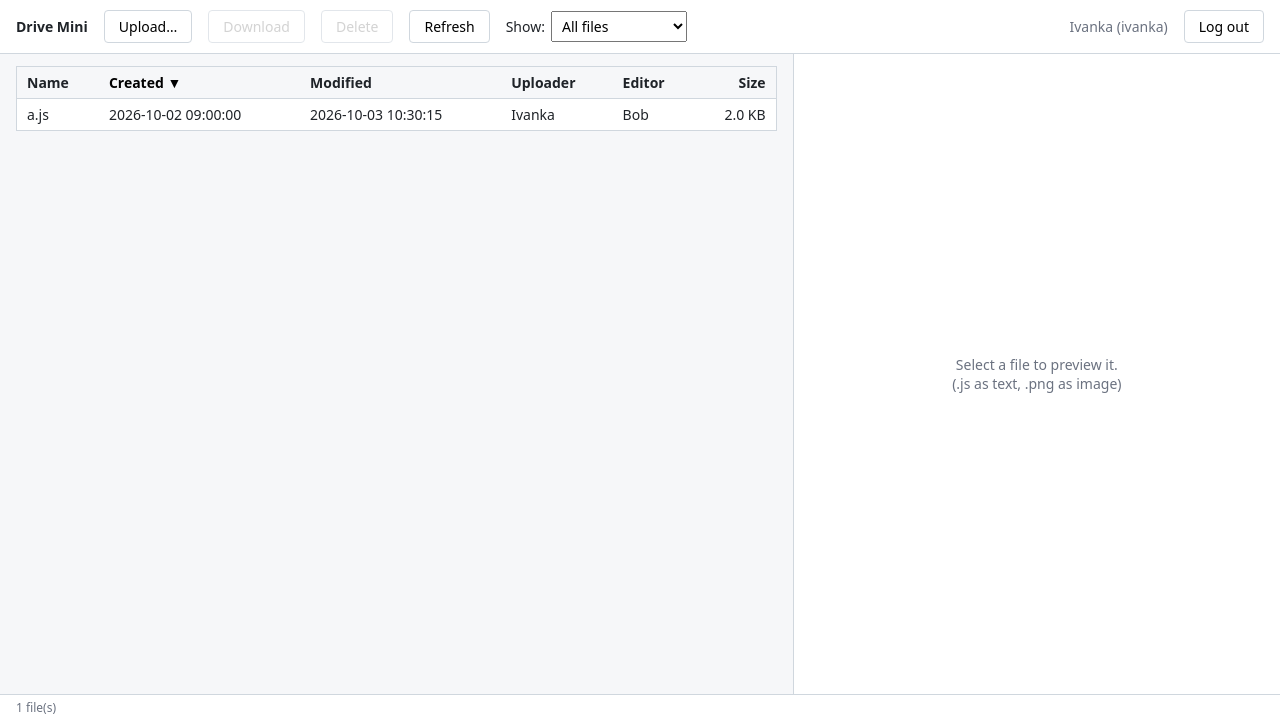
Test: right-click on the header shows the column menu; Name can't be hidden
Expected: the text "a.js" is shown, [16,98,99,130]
Right-click the column heading "Name" at coordinates (58, 82), box [16,66,99,98]
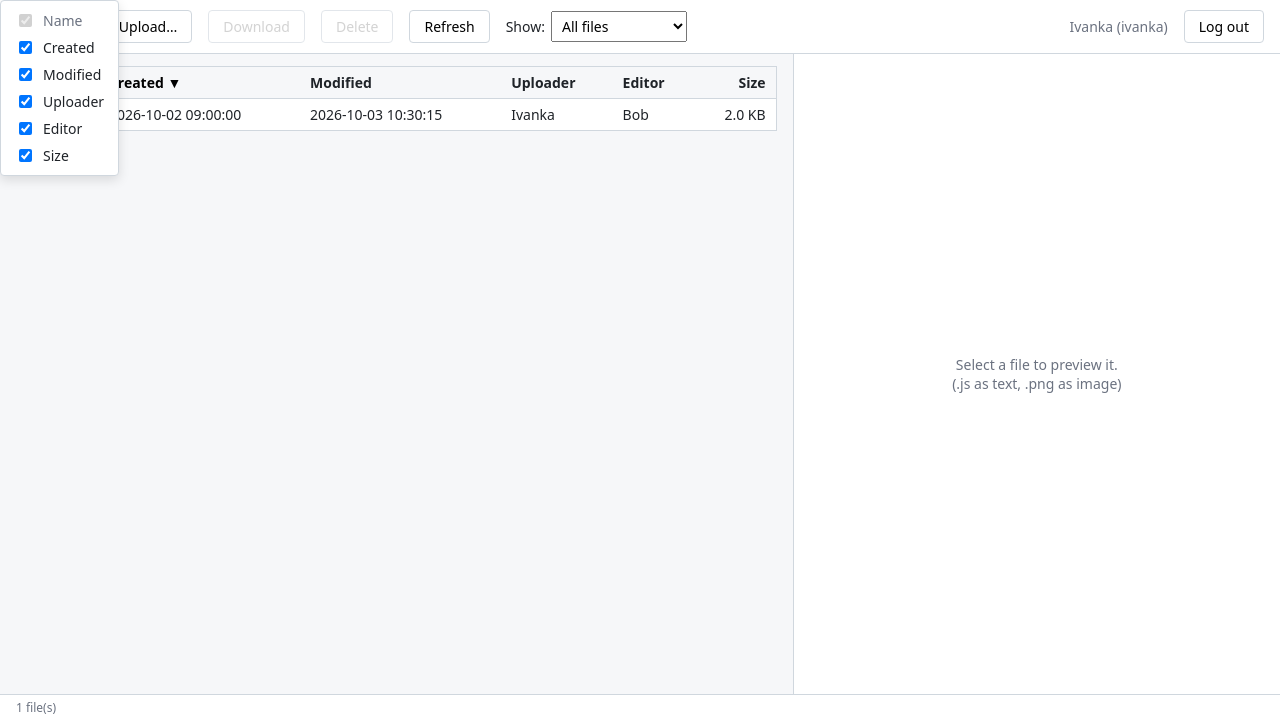
Result: the checkbox labelled "Name" is disabled at [19,14,32,27]
Result: the checkbox labelled "Uploader" is enabled at [19,95,32,108]
